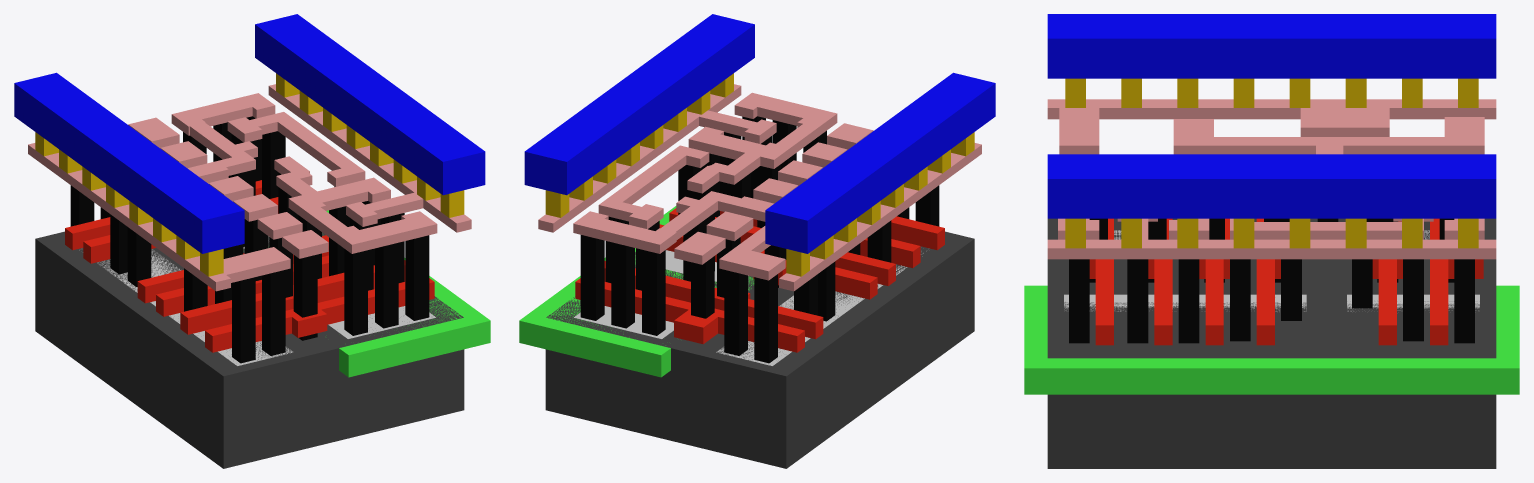
Rendered from sky130_fd_sc_hd__a222oi_1.obj.
The picture shows the model from 3 angles, left to right: view 1: azimuth 30°, elevation 25°; view 2: azimuth 150°, elevation 25°; view 3: azimuth 270°, elevation 25°; orthographic projection. The views are drawn at different scales.
Parts seen in each view (by area): view 1: subs, metal1, li, licon, poly, mcon, nwell, diff, tap; view 2: subs, metal1, li, licon, poly, nwell, mcon, diff, tap; view 3: metal1, subs, li, nwell, licon, poly, mcon, tap.
Part boxes in pixels (<box>): subs: <box>35,231,464,468</box>; metal1: <box>14,14,485,253</box>; li: <box>28,84,471,291</box>; licon: <box>70,116,429,363</box>; poly: <box>65,180,434,352</box>; mcon: <box>35,73,464,276</box>; nwell: <box>326,210,490,377</box>; diff: <box>79,249,292,365</box>; tap: <box>243,236,435,338</box>; subs: <box>545,231,974,468</box>; metal1: <box>524,14,995,253</box>; li: <box>538,84,981,291</box>; licon: <box>580,116,939,363</box>; poly: <box>575,208,944,352</box>; nwell: <box>519,206,754,377</box>; mcon: <box>545,73,974,276</box>; diff: <box>716,251,926,365</box>; tap: <box>574,250,748,338</box>; metal1: <box>1047,14,1496,218</box>; subs: <box>1047,218,1496,468</box>; li: <box>1047,99,1496,259</box>; nwell: <box>1024,285,1519,394</box>; licon: <box>1069,218,1474,343</box>; poly: <box>1089,218,1483,345</box>; mcon: <box>1065,78,1478,248</box>; tap: <box>1064,294,1479,311</box>.
Size of the model in its own units: 3.2 by 2.74 by 4.06.
